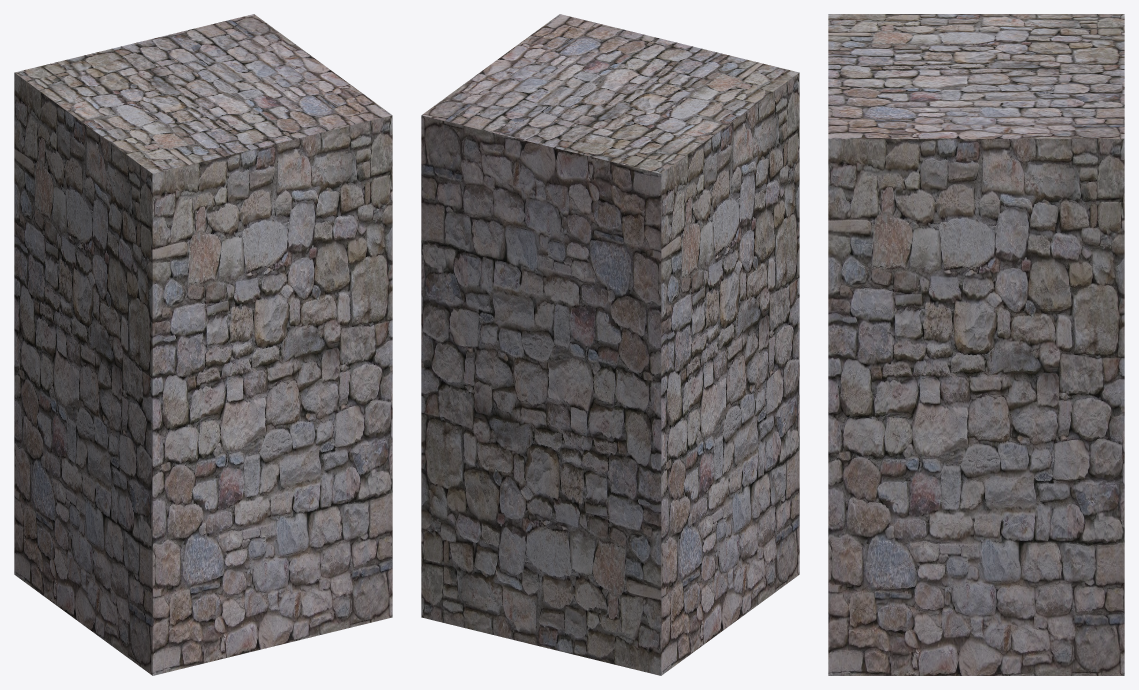
File: hwall_solid.obj
3 renders of one model, left to right at view 1: azimuth 30°, elevation 25°; view 2: azimuth 150°, elevation 25°; view 3: azimuth 270°, elevation 25°, orthographic. The views are drawn at different scales.
Bounding box in the file's own units: 1 × 2 × 1.
